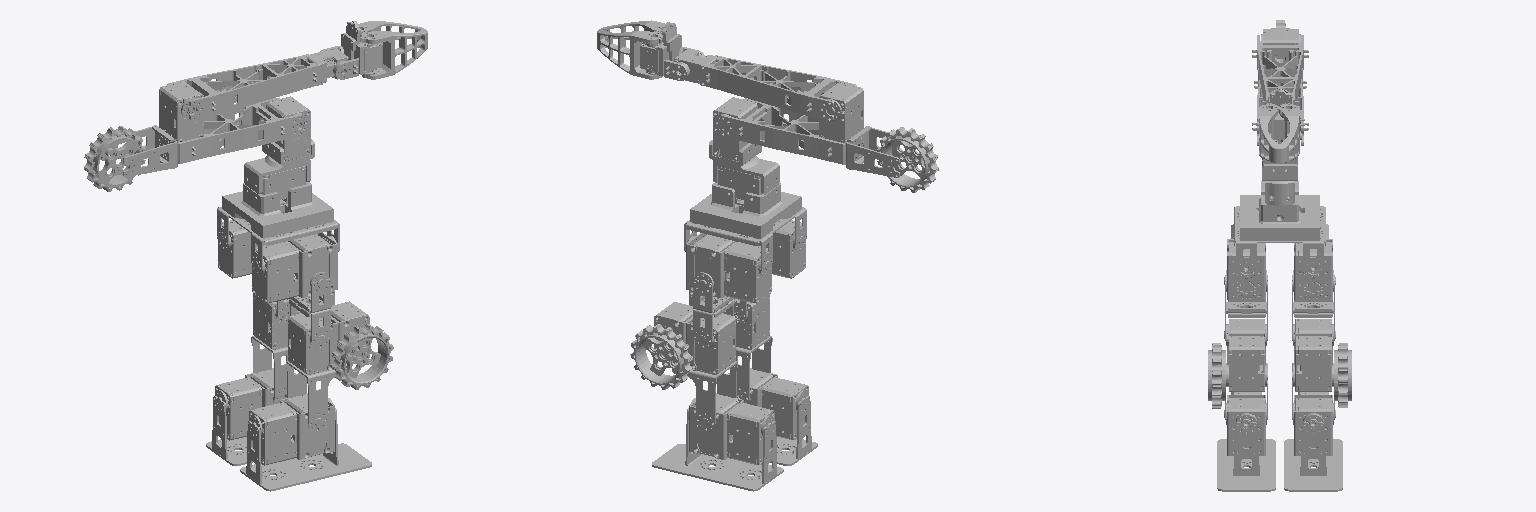
robot.urdf — biped_bike_robot_ver2:
<?xml version="1.0" encoding="utf-8"?>
<!-- This URDF was automatically created by SolidWorks to URDF Exporter! Originally created by Stephen Brawner (brawner@gmail.com) 
     Commit Version: 1.6.0-4-g7f85cfe  Build Version: 1.6.7995.38578
     For more information, please see http://wiki.ros.org/sw_urdf_exporter -->
<robot
  name="biped_bike_robot_ver2">
  <link
    name="base_link">
    <inertial>
      <origin
        xyz="-0.037095 -0.03743 0.018098"
        rpy="0 0 0" />
      <mass
        value="0.14124" />
      <inertia
        ixx="5.6621E-05"
        ixy="-4.4104E-09"
        ixz="2.459E-07"
        iyy="6.6472E-05"
        iyz="-5.2338E-09"
        izz="0.00010675" />
    </inertial>
    <visual>
      <origin
        xyz="0 0 0"
        rpy="0 0 0" />
      <geometry>
        <mesh
          filename="package://biped_bike_robot_ver2/meshes/base_link.STL" />
      </geometry>
      <material
        name="">
        <color
          rgba="0.75294 0.75294 0.75294 1" />
      </material>
    </visual>
    <collision>
      <origin
        xyz="0 0 0"
        rpy="0 0 0" />
      <geometry>
        <mesh
          filename="package://biped_bike_robot_ver2/meshes/base_link.STL" />
      </geometry>
    </collision>
  </link>
  <link
    name="l_hip_roll_joint">
    <inertial>
      <origin
        xyz="-0.012002 -0.00023467 0.040506"
        rpy="0 0 0" />
      <mass
        value="0.093878" />
      <inertia
        ixx="1.3975E-05"
        ixy="-2.5117E-07"
        ixz="2.5109E-07"
        iyy="2.211E-05"
        iyz="-1.0471E-08"
        izz="2.3229E-05" />
    </inertial>
    <visual>
      <origin
        xyz="0 0 0"
        rpy="0 0 0" />
      <geometry>
        <mesh
          filename="package://biped_bike_robot_ver2/meshes/l_hip_roll_joint.STL" />
      </geometry>
      <material
        name="">
        <color
          rgba="0.75294 0.75294 0.75294 1" />
      </material>
    </visual>
    <collision>
      <origin
        xyz="0 0 0"
        rpy="0 0 0" />
      <geometry>
        <mesh
          filename="package://biped_bike_robot_ver2/meshes/l_hip_roll_joint.STL" />
      </geometry>
    </collision>
  </link>
  <joint
    name="l_hip_roll_joint_jnt"
    type="revolute">
    <origin
      xyz="-0.079 -0.006 -0.028"
      rpy="0 -1.5708 3.14159" />
    <parent
      link="base_link" />
    <child
      link="l_hip_roll_joint" />
    <axis
      xyz="0 0 -1" />
    <limit
      lower="0"
      upper="0"
      effort="0"
      velocity="0" />
  </joint>
  <link
    name="l_hip_pitch_joint">
    <inertial>
      <origin
        xyz="3.4694E-17 0.028 -0.0209"
        rpy="0 0 0" />
      <mass
        value="0.0057449" />
      <inertia
        ixx="1.9559E-06"
        ixy="1.0839E-23"
        ixz="-4.9933E-22"
        iyy="1.8089E-06"
        iyz="-6.2971E-22"
        izz="7.604E-07" />
    </inertial>
    <visual>
      <origin
        xyz="0 0 0"
        rpy="0 0 0" />
      <geometry>
        <mesh
          filename="package://biped_bike_robot_ver2/meshes/l_hip_pitch_joint.STL" />
      </geometry>
      <material
        name="">
        <color
          rgba="0.75294 0.75294 0.75294 1" />
      </material>
    </visual>
    <collision>
      <origin
        xyz="0 0 0"
        rpy="0 0 0" />
      <geometry>
        <mesh
          filename="package://biped_bike_robot_ver2/meshes/l_hip_pitch_joint.STL" />
      </geometry>
    </collision>
  </link>
  <joint
    name="l_hip_pitch_joint_jnt"
    type="revolute">
    <origin
      xyz="-0.024 -0.0209 0.0574"
      rpy="1.5708 -1.5708 0" />
    <parent
      link="l_hip_roll_joint" />
    <child
      link="l_hip_pitch_joint" />
    <axis
      xyz="0 0 1" />
    <limit
      lower="0"
      upper="0"
      effort="0"
      velocity="0" />
  </joint>
  <link
    name="l_knee_joint">
    <inertial>
      <origin
        xyz="0.018642 0.013988 -0.020447"
        rpy="0 0 0" />
      <mass
        value="0.09941" />
      <inertia
        ixx="2.7075E-05"
        ixy="4.354E-07"
        ixz="-3.2147E-15"
        iyy="1.6372E-05"
        iyz="1.3798E-14"
        izz="2.3188E-05" />
    </inertial>
    <visual>
      <origin
        xyz="0 0 0"
        rpy="0 0 0" />
      <geometry>
        <mesh
          filename="package://biped_bike_robot_ver2/meshes/l_knee_joint.STL" />
      </geometry>
      <material
        name="">
        <color
          rgba="0.75294 0.75294 0.75294 1" />
      </material>
    </visual>
    <collision>
      <origin
        xyz="0 0 0"
        rpy="0 0 0" />
      <geometry>
        <mesh
          filename="package://biped_bike_robot_ver2/meshes/l_knee_joint.STL" />
      </geometry>
    </collision>
  </link>
  <joint
    name="l_knee_joint_jnt"
    type="revolute">
    <origin
      xyz="0 0.056 0"
      rpy="0 0 0" />
    <parent
      link="l_hip_pitch_joint" />
    <child
      link="l_knee_joint" />
    <axis
      xyz="0 0 1" />
    <limit
      lower="0"
      upper="0"
      effort="0"
      velocity="0" />
  </joint>
  <link
    name="l_ankle_joint">
    <inertial>
      <origin
        xyz="-0.016904 0.011696 -0.020666"
        rpy="0 0 0" />
      <mass
        value="0.093878" />
      <inertia
        ixx="2.3229E-05"
        ixy="-2.5109E-07"
        ixz="-1.9314E-11"
        iyy="1.3975E-05"
        iyz="2.6017E-07"
        izz="2.2111E-05" />
    </inertial>
    <visual>
      <origin
        xyz="0 0 0"
        rpy="0 0 0" />
      <geometry>
        <mesh
          filename="package://biped_bike_robot_ver2/meshes/l_ankle_joint.STL" />
      </geometry>
      <material
        name="">
        <color
          rgba="0.75294 0.75294 0.75294 1" />
      </material>
    </visual>
    <collision>
      <origin
        xyz="0 0 0"
        rpy="0 0 0" />
      <geometry>
        <mesh
          filename="package://biped_bike_robot_ver2/meshes/l_ankle_joint.STL" />
      </geometry>
    </collision>
  </link>
  <joint
    name="l_ankle_joint_jnt"
    type="revolute">
    <origin
      xyz="-0.003 0.08325 0"
      rpy="0 0 0" />
    <parent
      link="l_knee_joint" />
    <child
      link="l_ankle_joint" />
    <axis
      xyz="0 0 1" />
    <limit
      lower="0"
      upper="0"
      effort="0"
      velocity="0" />
  </joint>
  <link
    name="l_foot_link">
    <inertial>
      <origin
        xyz="-0.047181 9.9226E-16 0.052873"
        rpy="0 0 0" />
      <mass
        value="0.015899" />
      <inertia
        ixx="2.3253E-05"
        ixy="-9.8705E-20"
        ixz="1.2328E-06"
        iyy="2.3157E-05"
        iyz="-2.454E-19"
        izz="6.465E-06" />
    </inertial>
    <visual>
      <origin
        xyz="0 0 0"
        rpy="0 0 0" />
      <geometry>
        <mesh
          filename="package://biped_bike_robot_ver2/meshes/l_foot_link.STL" />
      </geometry>
      <material
        name="">
        <color
          rgba="0.75294 0.75294 0.75294 1" />
      </material>
    </visual>
    <collision>
      <origin
        xyz="0 0 0"
        rpy="0 0 0" />
      <geometry>
        <mesh
          filename="package://biped_bike_robot_ver2/meshes/l_foot_link.STL" />
      </geometry>
    </collision>
  </link>
  <joint
    name="l_foot_link_jnt"
    type="revolute">
    <origin
      xyz="-0.0574 0 -0.0209"
      rpy="-1.5708 0 -1.5708" />
    <parent
      link="l_ankle_joint" />
    <child
      link="l_foot_link" />
    <axis
      xyz="0 0 -1" />
    <limit
      lower="0"
      upper="0"
      effort="0"
      velocity="0" />
  </joint>
  <link
    name="l_knee_wheel">
    <inertial>
      <origin
        xyz="9.3908E-13 2.8935E-13 0.0055204"
        rpy="0 0 0" />
      <mass
        value="0.012433" />
      <inertia
        ixx="3.5443E-06"
        ixy="1.8789E-12"
        ixz="-1.6557E-17"
        iyy="3.5443E-06"
        iyz="-5.0496E-18"
        izz="6.6204E-06" />
    </inertial>
    <visual>
      <origin
        xyz="0 0 0"
        rpy="0 0 0" />
      <geometry>
        <mesh
          filename="package://biped_bike_robot_ver2/meshes/l_knee_wheel.STL" />
      </geometry>
      <material
        name="">
        <color
          rgba="0.75294 0.75294 0.75294 1" />
      </material>
    </visual>
    <collision>
      <origin
        xyz="0 0 0"
        rpy="0 0 0" />
      <geometry>
        <mesh
          filename="package://biped_bike_robot_ver2/meshes/l_knee_wheel.STL" />
      </geometry>
    </collision>
  </link>
  <joint
    name="l_knee_wheel_jnt"
    type="continuous">
    <origin
      xyz="0.039 0.024 0"
      rpy="0 0 0" />
    <parent
      link="l_knee_joint" />
    <child
      link="l_knee_wheel" />
    <axis
      xyz="0 0 1" />
  </joint>
  <link
    name="r_hip_roll_joint">
    <inertial>
      <origin
        xyz="-0.012003 0.00024646 0.040496"
        rpy="0 0 0" />
      <mass
        value="0.093878" />
      <inertia
        ixx="1.3974E-05"
        ixy="2.6025E-07"
        ixz="2.5989E-07"
        iyy="2.2111E-05"
        iyz="-1.0423E-08"
        izz="2.3229E-05" />
    </inertial>
    <visual>
      <origin
        xyz="0 0 0"
        rpy="0 0 0" />
      <geometry>
        <mesh
          filename="package://biped_bike_robot_ver2/meshes/r_hip_roll_joint.STL" />
      </geometry>
      <material
        name="">
        <color
          rgba="0.75294 0.75294 0.75294 1" />
      </material>
    </visual>
    <collision>
      <origin
        xyz="0 0 0"
        rpy="0 0 0" />
      <geometry>
        <mesh
          filename="package://biped_bike_robot_ver2/meshes/r_hip_roll_joint.STL" />
      </geometry>
    </collision>
  </link>
  <joint
    name="r_hip_roll_joint_jnt"
    type="revolute">
    <origin
      xyz="-0.079 -0.069 -0.028"
      rpy="0 -1.5708 3.14159" />
    <parent
      link="base_link" />
    <child
      link="r_hip_roll_joint" />
    <axis
      xyz="0 0 -1" />
    <limit
      lower="0"
      upper="0"
      effort="0"
      velocity="0" />
  </joint>
  <link
    name="r_hip_pitch_link">
    <inertial>
      <origin
        xyz="-3.8164E-17 0.028 0.0209"
        rpy="0 0 0" />
      <mass
        value="0.0057449" />
      <inertia
        ixx="1.9559E-06"
        ixy="-2.211E-23"
        ixz="9.525E-22"
        iyy="1.8089E-06"
        iyz="-7.1531E-22"
        izz="7.604E-07" />
    </inertial>
    <visual>
      <origin
        xyz="0 0 0"
        rpy="0 0 0" />
      <geometry>
        <mesh
          filename="package://biped_bike_robot_ver2/meshes/r_hip_pitch_link.STL" />
      </geometry>
      <material
        name="">
        <color
          rgba="0.75294 0.75294 0.75294 1" />
      </material>
    </visual>
    <collision>
      <origin
        xyz="0 0 0"
        rpy="0 0 0" />
      <geometry>
        <mesh
          filename="package://biped_bike_robot_ver2/meshes/r_hip_pitch_link.STL" />
      </geometry>
    </collision>
  </link>
  <joint
    name="r_hip_pitch_link_jnt"
    type="revolute">
    <origin
      xyz="-0.024 0.0209 0.0574"
      rpy="1.5708 -1.5708 0" />
    <parent
      link="r_hip_roll_joint" />
    <child
      link="r_hip_pitch_link" />
    <axis
      xyz="0 0 -1" />
    <limit
      lower="0"
      upper="0"
      effort="0"
      velocity="0" />
  </joint>
  <link
    name="r_knee_joint">
    <inertial>
      <origin
        xyz="0.018642 0.013988 0.020447"
        rpy="0 0 0" />
      <mass
        value="0.09941" />
      <inertia
        ixx="2.7075E-05"
        ixy="4.1777E-07"
        ixz="-3.2147E-15"
        iyy="1.6372E-05"
        iyz="1.3798E-14"
        izz="2.3188E-05" />
    </inertial>
    <visual>
      <origin
        xyz="0 0 0"
        rpy="0 0 0" />
      <geometry>
        <mesh
          filename="package://biped_bike_robot_ver2/meshes/r_knee_joint.STL" />
      </geometry>
      <material
        name="">
        <color
          rgba="0.75294 0.75294 0.75294 1" />
      </material>
    </visual>
    <collision>
      <origin
        xyz="0 0 0"
        rpy="0 0 0" />
      <geometry>
        <mesh
          filename="package://biped_bike_robot_ver2/meshes/r_knee_joint.STL" />
      </geometry>
    </collision>
  </link>
  <joint
    name="r_knee_joint_jnt"
    type="revolute">
    <origin
      xyz="0 0.056 0"
      rpy="0 0 0" />
    <parent
      link="r_hip_pitch_link" />
    <child
      link="r_knee_joint" />
    <axis
      xyz="0 0 -1" />
    <limit
      lower="0"
      upper="0"
      effort="0"
      velocity="0" />
  </joint>
  <link
    name="r_ankle_joint">
    <inertial>
      <origin
        xyz="-0.016894 0.011696 0.020655"
        rpy="0 0 0" />
      <mass
        value="0.093878" />
      <inertia
        ixx="2.3229E-05"
        ixy="-2.5991E-07"
        ixz="2.4204E-12"
        iyy="1.3975E-05"
        iyz="-2.5113E-07"
        izz="2.211E-05" />
    </inertial>
    <visual>
      <origin
        xyz="0 0 0"
        rpy="0 0 0" />
      <geometry>
        <mesh
          filename="package://biped_bike_robot_ver2/meshes/r_ankle_joint.STL" />
      </geometry>
      <material
        name="">
        <color
          rgba="0.75294 0.75294 0.75294 1" />
      </material>
    </visual>
    <collision>
      <origin
        xyz="0 0 0"
        rpy="0 0 0" />
      <geometry>
        <mesh
          filename="package://biped_bike_robot_ver2/meshes/r_ankle_joint.STL" />
      </geometry>
    </collision>
  </link>
  <joint
    name="r_ankle_joint_jnt"
    type="revolute">
    <origin
      xyz="-0.003 0.08325 0"
      rpy="0 0 0" />
    <parent
      link="r_knee_joint" />
    <child
      link="r_ankle_joint" />
    <axis
      xyz="0 0 -1" />
    <limit
      lower="0"
      upper="0"
      effort="0"
      velocity="0" />
  </joint>
  <link
    name="r_foot_link">
    <inertial>
      <origin
        xyz="-0.047181 9.1593E-16 0.052873"
        rpy="0 0 0" />
      <mass
        value="0.015899" />
      <inertia
        ixx="2.3253E-05"
        ixy="-1.0797E-19"
        ixz="1.2328E-06"
        iyy="2.3157E-05"
        iyz="-2.1922E-19"
        izz="6.465E-06" />
    </inertial>
    <visual>
      <origin
        xyz="0 0 0"
        rpy="0 0 0" />
      <geometry>
        <mesh
          filename="package://biped_bike_robot_ver2/meshes/r_foot_link.STL" />
      </geometry>
      <material
        name="">
        <color
          rgba="0.75294 0.75294 0.75294 1" />
      </material>
    </visual>
    <collision>
      <origin
        xyz="0 0 0"
        rpy="0 0 0" />
      <geometry>
        <mesh
          filename="package://biped_bike_robot_ver2/meshes/r_foot_link.STL" />
      </geometry>
    </collision>
  </link>
  <joint
    name="r_foot_link_jnt"
    type="revolute">
    <origin
      xyz="-0.0574 0 0.0209"
      rpy="-1.5708 0 -1.5708" />
    <parent
      link="r_ankle_joint" />
    <child
      link="r_foot_link" />
    <axis
      xyz="0 0 -1" />
    <limit
      lower="0"
      upper="0"
      effort="0"
      velocity="0" />
  </joint>
  <link
    name="r_knee_wheel">
    <inertial>
      <origin
        xyz="2.7235E-13 9.4441E-13 -0.0056204"
        rpy="0 0 0" />
      <mass
        value="0.012433" />
      <inertia
        ixx="3.5443E-06"
        ixy="2.0025E-12"
        ixz="4.7462E-18"
        iyy="3.5443E-06"
        iyz="1.6644E-17"
        izz="6.6204E-06" />
    </inertial>
    <visual>
      <origin
        xyz="0 0 0"
        rpy="0 0 0" />
      <geometry>
        <mesh
          filename="package://biped_bike_robot_ver2/meshes/r_knee_wheel.STL" />
      </geometry>
      <material
        name="">
        <color
          rgba="0.75294 0.75294 0.75294 1" />
      </material>
    </visual>
    <collision>
      <origin
        xyz="0 0 0"
        rpy="0 0 0" />
      <geometry>
        <mesh
          filename="package://biped_bike_robot_ver2/meshes/r_knee_wheel.STL" />
      </geometry>
    </collision>
  </link>
  <joint
    name="r_knee_wheel_jnt"
    type="continuous">
    <origin
      xyz="0.039 0.024 0"
      rpy="0 0 0" />
    <parent
      link="r_knee_joint" />
    <child
      link="r_knee_wheel" />
    <axis
      xyz="0 0 -1" />
  </joint>
  <link
    name="waist_yaw_link">
    <inertial>
      <origin
        xyz="-0.00017671 0.00042938 0.026916"
        rpy="0 0 0" />
      <mass
        value="0.052381" />
      <inertia
        ixx="1.202E-05"
        ixy="-5.2331E-09"
        ixz="-4.4082E-09"
        iyy="1.1556E-05"
        iyz="-2.555E-07"
        izz="8.5325E-06" />
    </inertial>
    <visual>
      <origin
        xyz="0 0 0"
        rpy="0 0 0" />
      <geometry>
        <mesh
          filename="package://biped_bike_robot_ver2/meshes/waist_yaw_link.STL" />
      </geometry>
      <material
        name="">
        <color
          rgba="0.75294 0.75294 0.75294 1" />
      </material>
    </visual>
    <collision>
      <origin
        xyz="0 0 0"
        rpy="0 0 0" />
      <geometry>
        <mesh
          filename="package://biped_bike_robot_ver2/meshes/waist_yaw_link.STL" />
      </geometry>
    </collision>
  </link>
  <joint
    name="waist_yaw_link_jnt"
    type="revolute">
    <origin
      xyz="-0.02625 -0.0373 0.0547"
      rpy="0 0 0" />
    <parent
      link="base_link" />
    <child
      link="waist_yaw_link" />
    <axis
      xyz="0 0 -1" />
    <limit
      lower="0"
      upper="0"
      effort="0"
      velocity="0" />
  </joint>
  <link
    name="arm_link_1">
    <inertial>
      <origin
        xyz="-0.10005 -0.013801 -0.020362"
        rpy="0 0 0" />
      <mass
        value="0.092552" />
      <inertia
        ixx="2.3617E-05"
        ixy="7.018E-07"
        ixz="-4.7466E-09"
        iyy="8.265E-05"
        iyz="2.554E-07"
        izz="7.7304E-05" />
    </inertial>
    <visual>
      <origin
        xyz="0 0 0"
        rpy="0 0 0" />
      <geometry>
        <mesh
          filename="package://biped_bike_robot_ver2/meshes/arm_link_1.STL" />
      </geometry>
      <material
        name="">
        <color
          rgba="0.75294 0.75294 0.75294 1" />
      </material>
    </visual>
    <collision>
      <origin
        xyz="0 0 0"
        rpy="0 0 0" />
      <geometry>
        <mesh
          filename="package://biped_bike_robot_ver2/meshes/arm_link_1.STL" />
      </geometry>
    </collision>
  </link>
  <joint
    name="arm_link_1_jnt"
    type="revolute">
    <origin
      xyz="-0.0002 0.0209 0.04235"
      rpy="-1.5708 0 0" />
    <parent
      link="waist_yaw_link" />
    <child
      link="arm_link_1" />
    <axis
      xyz="0 0 1" />
    <limit
      lower="0"
      upper="0"
      effort="0"
      velocity="0" />
  </joint>
  <link
    name="arm_link_2">
    <inertial>
      <origin
        xyz="0.0973 0.00017481 -0.020956"
        rpy="0 0 0" />
      <mass
        value="0.046121" />
      <inertia
        ixx="7.7418E-06"
        ixy="3.1131E-08"
        ixz="-2.671E-09"
        iyy="5.9962E-05"
        iyz="8.4245E-11"
        izz="5.5233E-05" />
    </inertial>
    <visual>
      <origin
        xyz="0 0 0"
        rpy="0 0 0" />
      <geometry>
        <mesh
          filename="package://biped_bike_robot_ver2/meshes/arm_link_2.STL" />
      </geometry>
      <material
        name="">
        <color
          rgba="0.75294 0.75294 0.75294 1" />
      </material>
    </visual>
    <collision>
      <origin
        xyz="0 0 0"
        rpy="0 0 0" />
      <geometry>
        <mesh
          filename="package://biped_bike_robot_ver2/meshes/arm_link_2.STL" />
      </geometry>
    </collision>
  </link>
  <joint
    name="arm_link_2_jnt"
    type="revolute">
    <origin
      xyz="-0.11295 -0.0415 0.0004"
      rpy="0 0 0" />
    <parent
      link="arm_link_1" />
    <child
      link="arm_link_2" />
    <axis
      xyz="0 0 1" />
    <limit
      lower="0"
      upper="0"
      effort="0"
      velocity="0" />
  </joint>
  <link
    name="end_effector">
    <inertial>
      <origin
        xyz="0.036961 -0.0060773 -0.014805"
        rpy="0 0 0" />
      <mass
        value="0.043434" />
      <inertia
        ixx="7.5365E-06"
        ixy="-2.2456E-09"
        ixz="4.4063E-08"
        iyy="9.8868E-06"
        iyz="1.4693E-08"
        izz="1.1251E-05" />
    </inertial>
    <visual>
      <origin
        xyz="0 0 0"
        rpy="0 0 0" />
      <geometry>
        <mesh
          filename="package://biped_bike_robot_ver2/meshes/end_effector.STL" />
      </geometry>
      <material
        name="">
        <color
          rgba="0.75294 0.75294 0.75294 1" />
      </material>
    </visual>
    <collision>
      <origin
        xyz="0 0 0"
        rpy="0 0 0" />
      <geometry>
        <mesh
          filename="package://biped_bike_robot_ver2/meshes/end_effector.STL" />
      </geometry>
    </collision>
  </link>
  <joint
    name="end_effector_jnt"
    type="revolute">
    <origin
      xyz="0.1618 0 -0.0064"
      rpy="0 0 0" />
    <parent
      link="arm_link_2" />
    <child
      link="end_effector" />
    <axis
      xyz="0 0 1" />
    <limit
      lower="0"
      upper="0"
      effort="0"
      velocity="0" />
  </joint>
  <link
    name="elbow_wheel">
    <inertial>
      <origin
        xyz="9.816E-13 3.4028E-14 0.0015204"
        rpy="0 0 0" />
      <mass
        value="0.012433" />
      <inertia
        ixx="3.5443E-06"
        ixy="3.3698E-12"
        ixz="-1.73E-17"
        iyy="3.5443E-06"
        iyz="-5.4709E-19"
        izz="6.6204E-06" />
    </inertial>
    <visual>
      <origin
        xyz="0 0 0"
        rpy="0 0 0" />
      <geometry>
        <mesh
          filename="package://biped_bike_robot_ver2/meshes/elbow_wheel.STL" />
      </geometry>
      <material
        name="">
        <color
          rgba="0.75294 0.75294 0.75294 1" />
      </material>
    </visual>
    <collision>
      <origin
        xyz="0 0 0"
        rpy="0 0 0" />
      <geometry>
        <mesh
          filename="package://biped_bike_robot_ver2/meshes/elbow_wheel.STL" />
      </geometry>
    </collision>
  </link>
  <joint
    name="elbow_wheel_jnt"
    type="continuous">
    <origin
      xyz="-0.1835 0 -0.02345"
      rpy="0 0 0" />
    <parent
      link="arm_link_1" />
    <child
      link="elbow_wheel" />
    <axis
      xyz="0 0 -1" />
  </joint>
</robot>

--- Facts derived from the render (not from the file) ---
The picture shows the robot from 3 angles, left to right: view 1: azimuth 30°, elevation 25°; view 2: azimuth 150°, elevation 25°; view 3: azimuth 270°, elevation 25°; orthographic projection.
Model biped_bike_robot_ver2 with 18 links and 17 joints (14 revolute, 3 continuous), rooted at base_link, posed all joints at 0.
Visible links, largest first — view 1: arm_link_1, base_link, arm_link_2, r_knee_joint, r_hip_roll_joint, r_ankle_joint, end_effector, r_foot_link, r_knee_wheel, l_knee_joint, l_ankle_joint, elbow_wheel (+4 smaller); view 2: arm_link_1, base_link, arm_link_2, l_knee_joint, l_hip_roll_joint, l_ankle_joint, end_effector, l_foot_link, l_knee_wheel, r_knee_joint, r_ankle_joint, elbow_wheel (+4 smaller); view 3: base_link, l_foot_link, r_foot_link, l_knee_joint, r_knee_joint, end_effector, arm_link_2, l_hip_roll_joint, r_hip_roll_joint, l_ankle_joint, r_ankle_joint, arm_link_1 (+5 smaller).
Boxes of the visible links, left/top/right/bottom form: arm_link_1: left=101, top=81, right=303, bottom=176; base_link: left=217, top=155, right=339, bottom=270; arm_link_2: left=167, top=48, right=348, bottom=120; r_knee_joint: left=286, top=301, right=369, bottom=425; r_hip_roll_joint: left=252, top=233, right=337, bottom=303; r_ankle_joint: left=249, top=393, right=334, bottom=465; end_effector: left=320, top=21, right=427, bottom=79; r_foot_link: left=240, top=408, right=371, bottom=491; r_knee_wheel: left=331, top=324, right=393, bottom=389; l_knee_joint: left=251, top=290, right=334, bottom=400; l_ankle_joint: left=215, top=368, right=295, bottom=440; elbow_wheel: left=84, top=126, right=145, bottom=191; arm_link_1: left=720, top=82, right=913, bottom=177; base_link: left=684, top=156, right=806, bottom=270; arm_link_2: left=674, top=49, right=856, bottom=121; l_knee_joint: left=654, top=302, right=737, bottom=425; l_hip_roll_joint: left=686, top=233, right=771, bottom=303; l_ankle_joint: left=689, top=393, right=774, bottom=464; end_effector: left=597, top=20, right=704, bottom=80; l_foot_link: left=652, top=408, right=783, bottom=491; l_knee_wheel: left=630, top=324, right=692, bottom=389; r_knee_joint: left=689, top=291, right=772, bottom=400; r_ankle_joint: left=728, top=368, right=808, bottom=439; elbow_wheel: left=877, top=127, right=938, bottom=192; base_link: left=1234, top=181, right=1325, bottom=271; l_foot_link: left=1284, top=422, right=1342, bottom=491; r_foot_link: left=1217, top=422, right=1275, bottom=491; l_knee_joint: left=1292, top=319, right=1335, bottom=419; r_knee_joint: left=1224, top=319, right=1267, bottom=419; end_effector: left=1257, top=89, right=1304, bottom=162; arm_link_2: left=1252, top=35, right=1308, bottom=107; l_hip_roll_joint: left=1292, top=224, right=1335, bottom=300; r_hip_roll_joint: left=1224, top=224, right=1267, bottom=300; l_ankle_joint: left=1293, top=392, right=1335, bottom=455; r_ankle_joint: left=1224, top=392, right=1266, bottom=455; arm_link_1: left=1252, top=29, right=1308, bottom=145.
Size in the robot's own frame: 0.3605 by 0.1359 by 0.4235 metres.
Meshes: 18 distinct files referenced, 18 mesh visuals loaded (18 binary STL).
